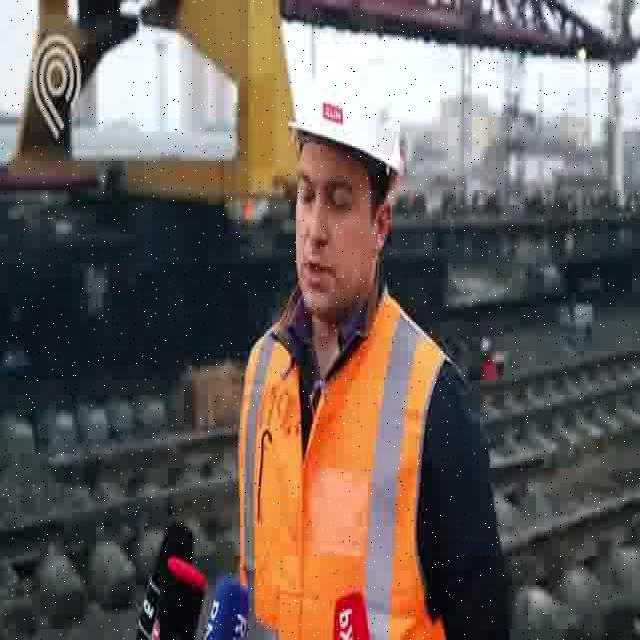Hard_hat: (286, 59, 408, 175)
Vest: (243, 305, 442, 628)
